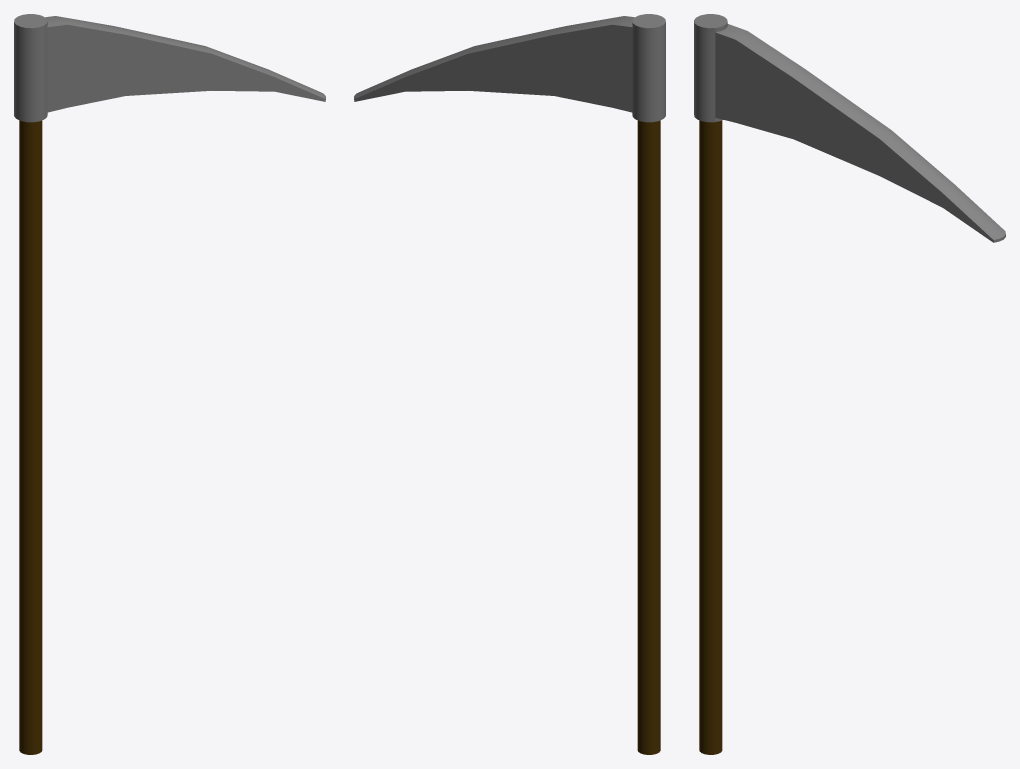
Rendered from Foice.fbx.
The picture shows the model from 3 angles, left to right: view 1: azimuth 30°, elevation 25°; view 2: azimuth 150°, elevation 25°; view 3: azimuth 330°, elevation 25°; orthographic projection.
Parts seen in each view (by area): view 1: Foice; view 2: Foice; view 3: Foice.
Boxes of the visible parts, x1,y1,x2,y2 form: Foice: (14, 14, 325, 754); Foice: (354, 14, 665, 754); Foice: (694, 14, 1005, 754).
Size of the model in its own units: 23.08 by 52.26 by 2.21.
Materials: 1 (1 with a texture image).
